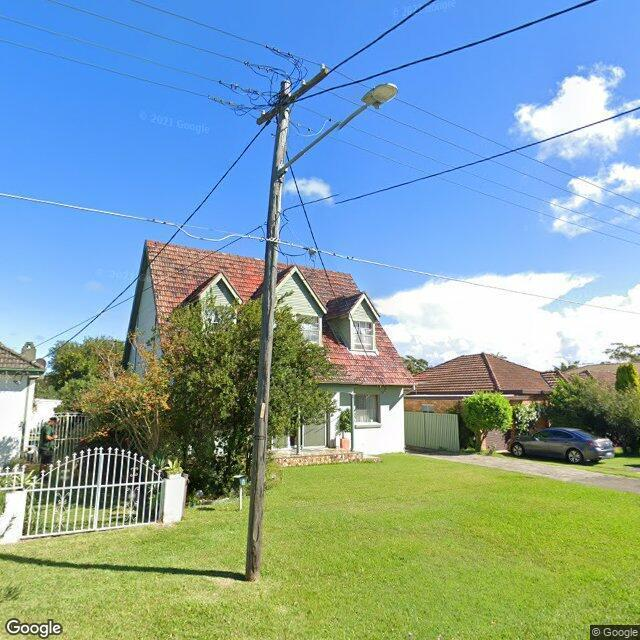crossarm: (256, 68, 332, 125)
streetlight: (282, 82, 401, 180)
timber-pole: (242, 79, 292, 583)
